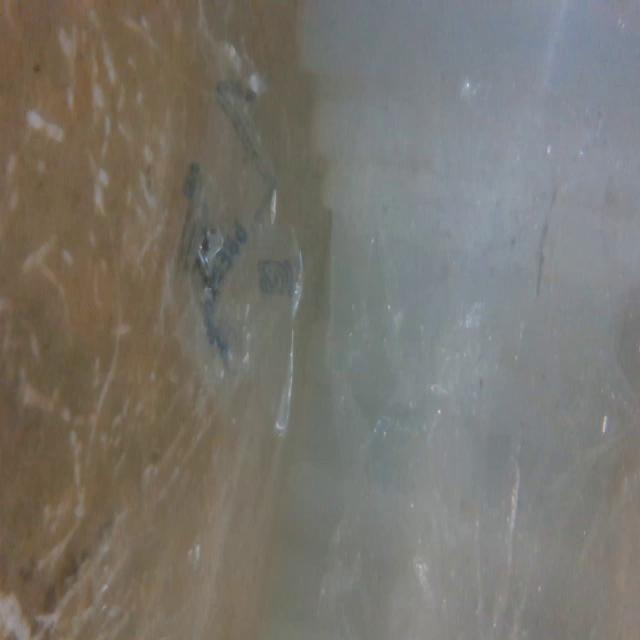plastic bags: (164, 75, 310, 447)
